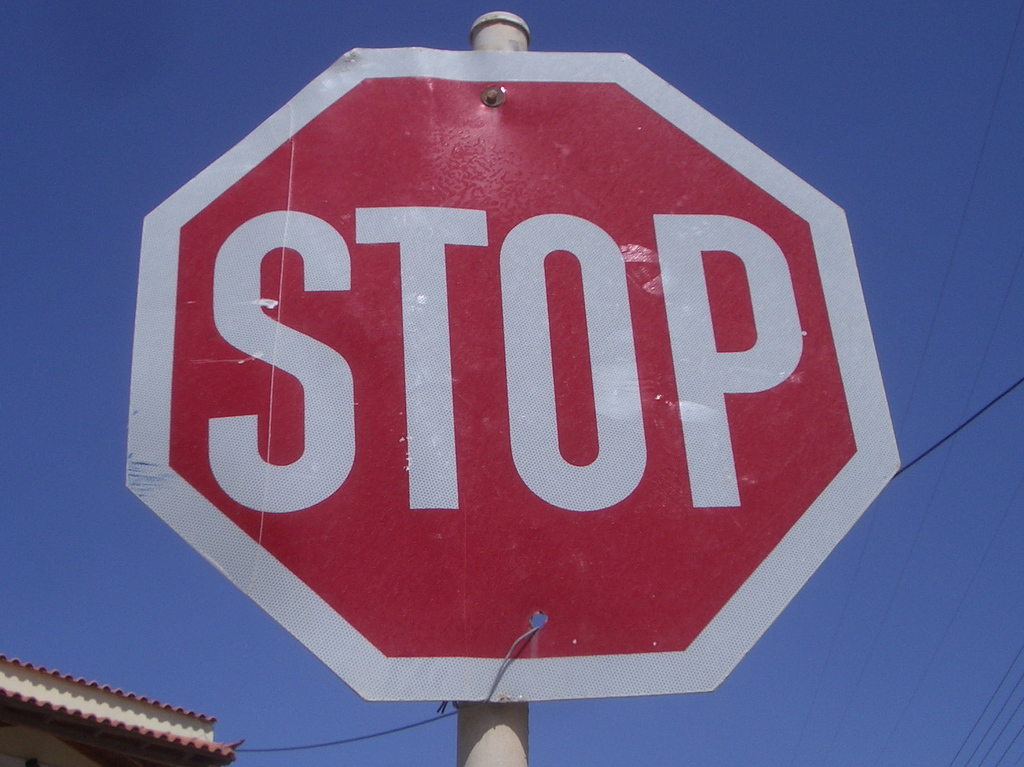stop_sign: (136, 49, 900, 691)
